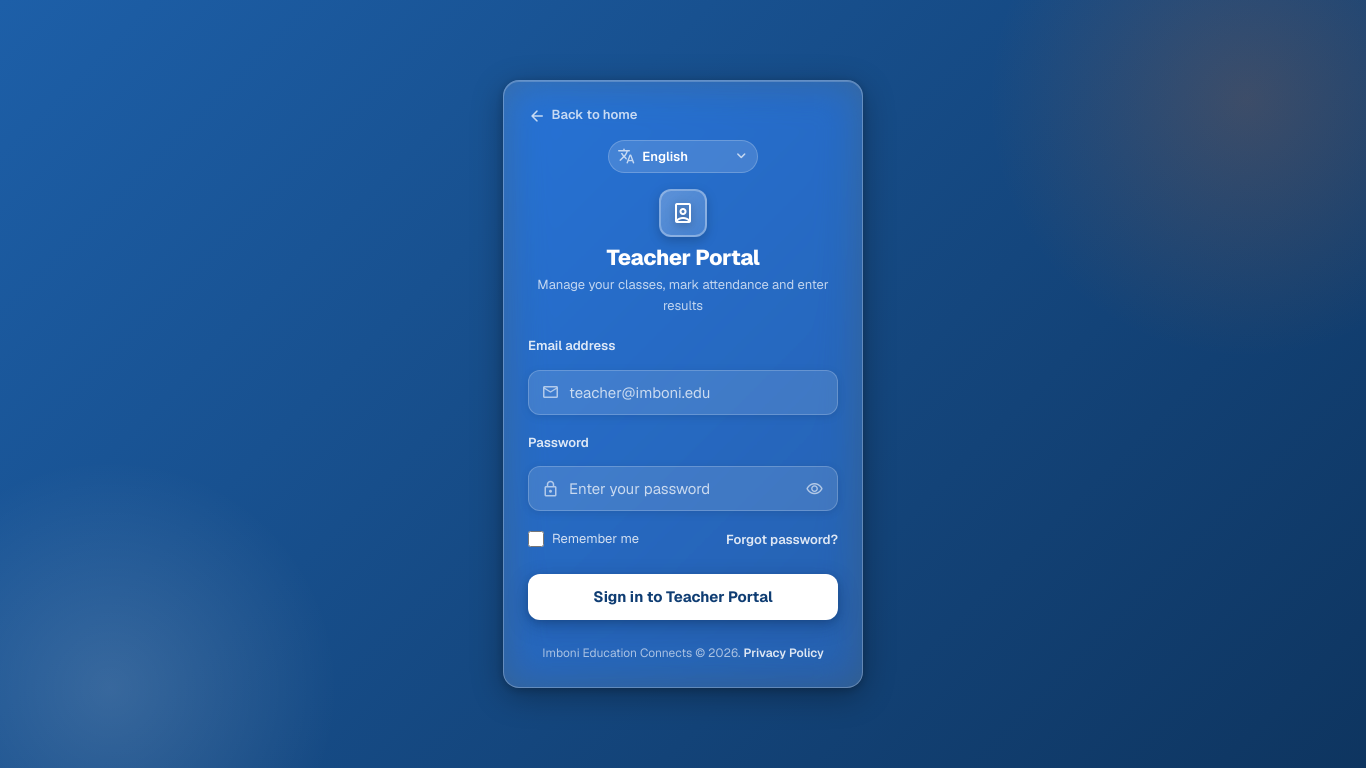
PortalLogin › opens the forgot-password modal
This screenshot has width=1366, height=768.
Click the button "Forgot password?".
click(782, 539)  # box [726, 531, 838, 548]
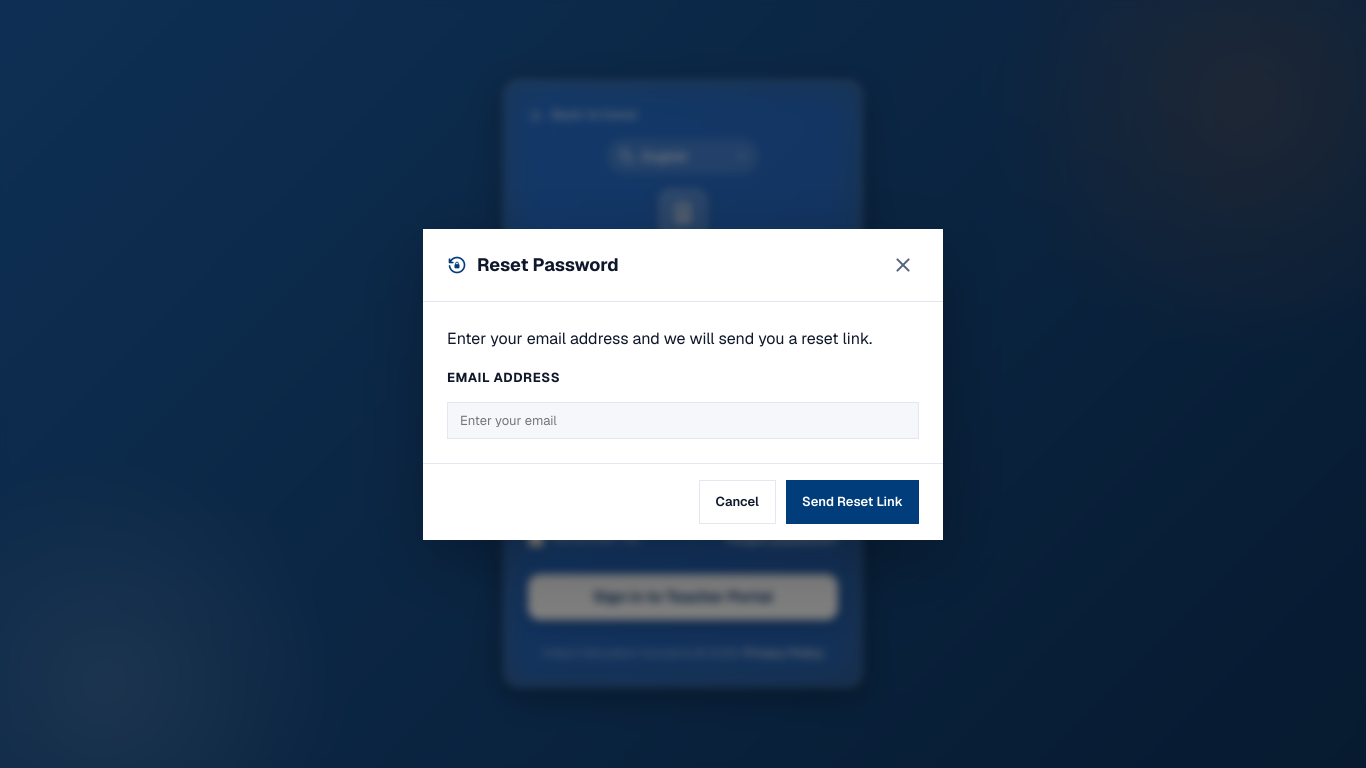
Check: the heading "Reset Password" is shown, box [477, 254, 619, 276]
